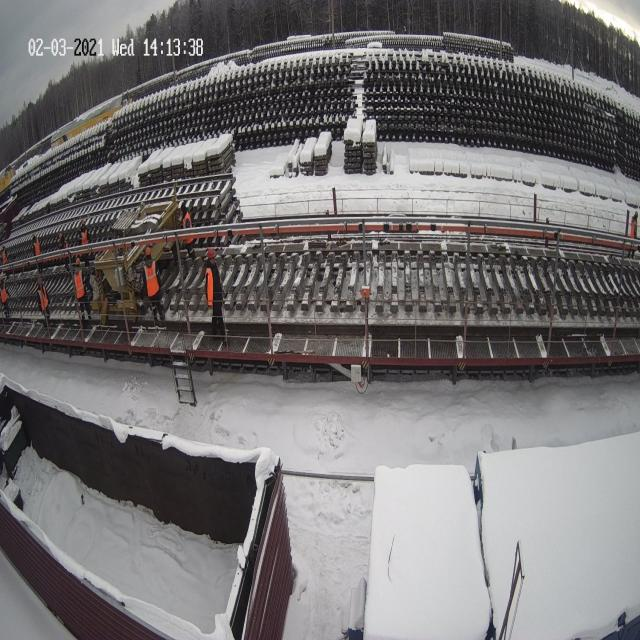Helmet: (207, 248, 215, 258), (145, 247, 151, 256)
Person: (203, 248, 226, 336), (140, 247, 165, 320), (74, 256, 92, 321), (178, 201, 196, 262), (35, 284, 56, 328), (57, 232, 71, 271), (628, 210, 638, 258), (31, 233, 42, 274), (0, 273, 10, 315), (82, 209, 92, 250), (0, 242, 8, 264)
